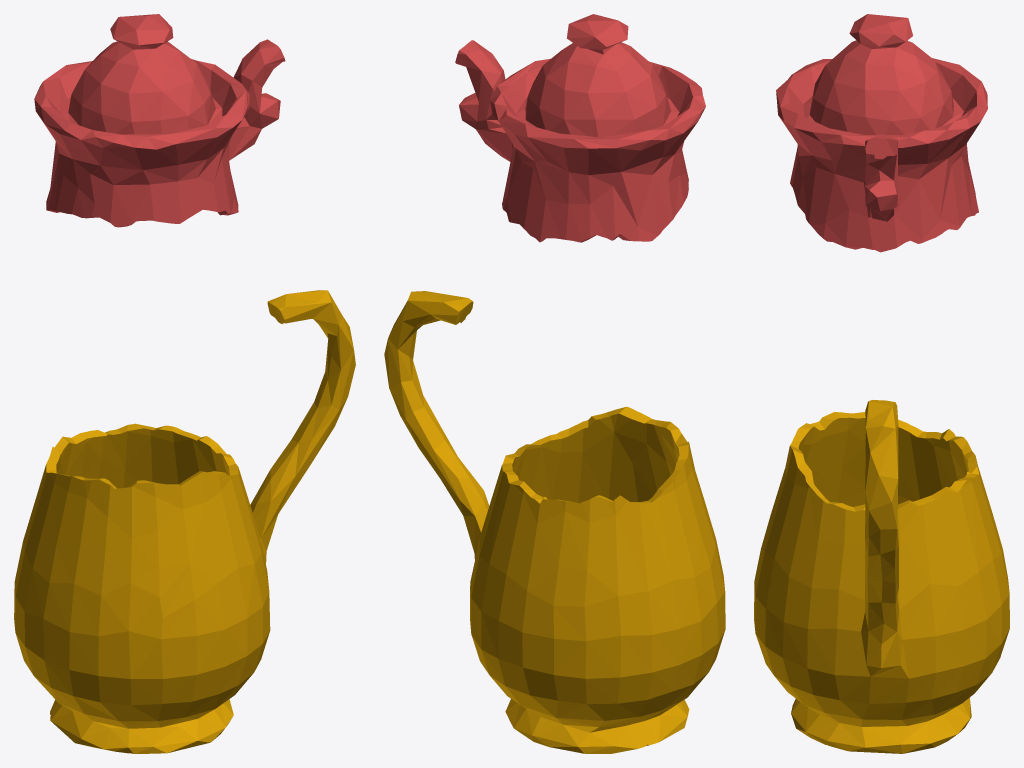
Rendered from fractured_57_2pcs_transformed.glb.
The picture shows the model from 3 angles, left to right: view 1: azimuth 30°, elevation 25°; view 2: azimuth 150°, elevation 25°; view 3: azimuth 270°, elevation 25°; orthographic projection.
Parts seen in each view (by area): view 1: piece_0.obj, piece_1.obj; view 2: piece_0.obj, piece_1.obj; view 3: piece_0.obj, piece_1.obj.
Part boxes in pixels (<box>): piece_0.obj: <box>14,290,355,753</box>; piece_1.obj: <box>34,14,285,227</box>; piece_0.obj: <box>384,291,725,753</box>; piece_1.obj: <box>455,14,705,242</box>; piece_0.obj: <box>754,400,1009,753</box>; piece_1.obj: <box>776,14,987,252</box>.
Bounding box in the file's own units: 0.7666 × 1.6 × 0.5311.
